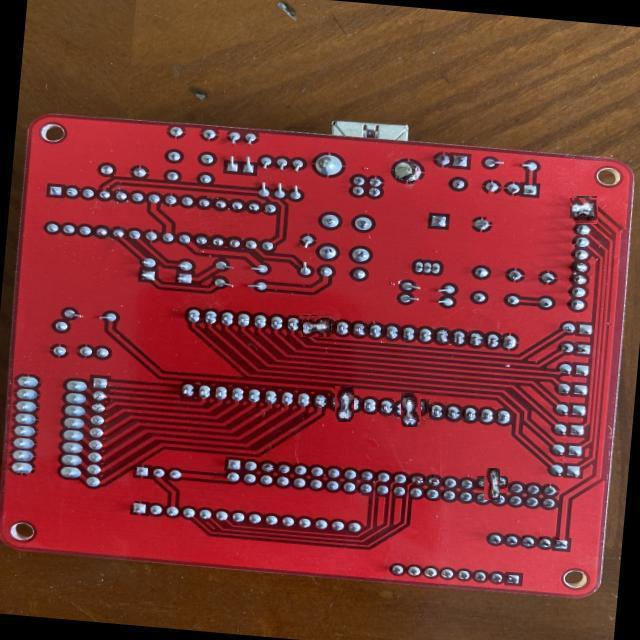damged: (331, 390, 358, 418), (398, 396, 425, 423), (571, 197, 598, 223), (302, 315, 331, 337), (480, 472, 504, 497)
